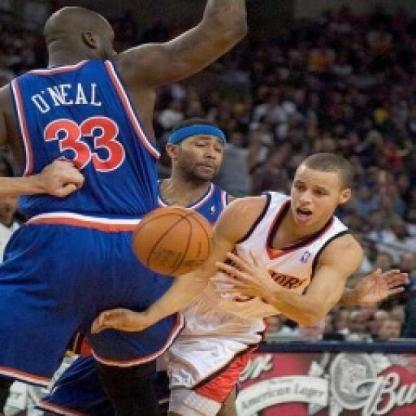basketball: (141, 207, 207, 272)
